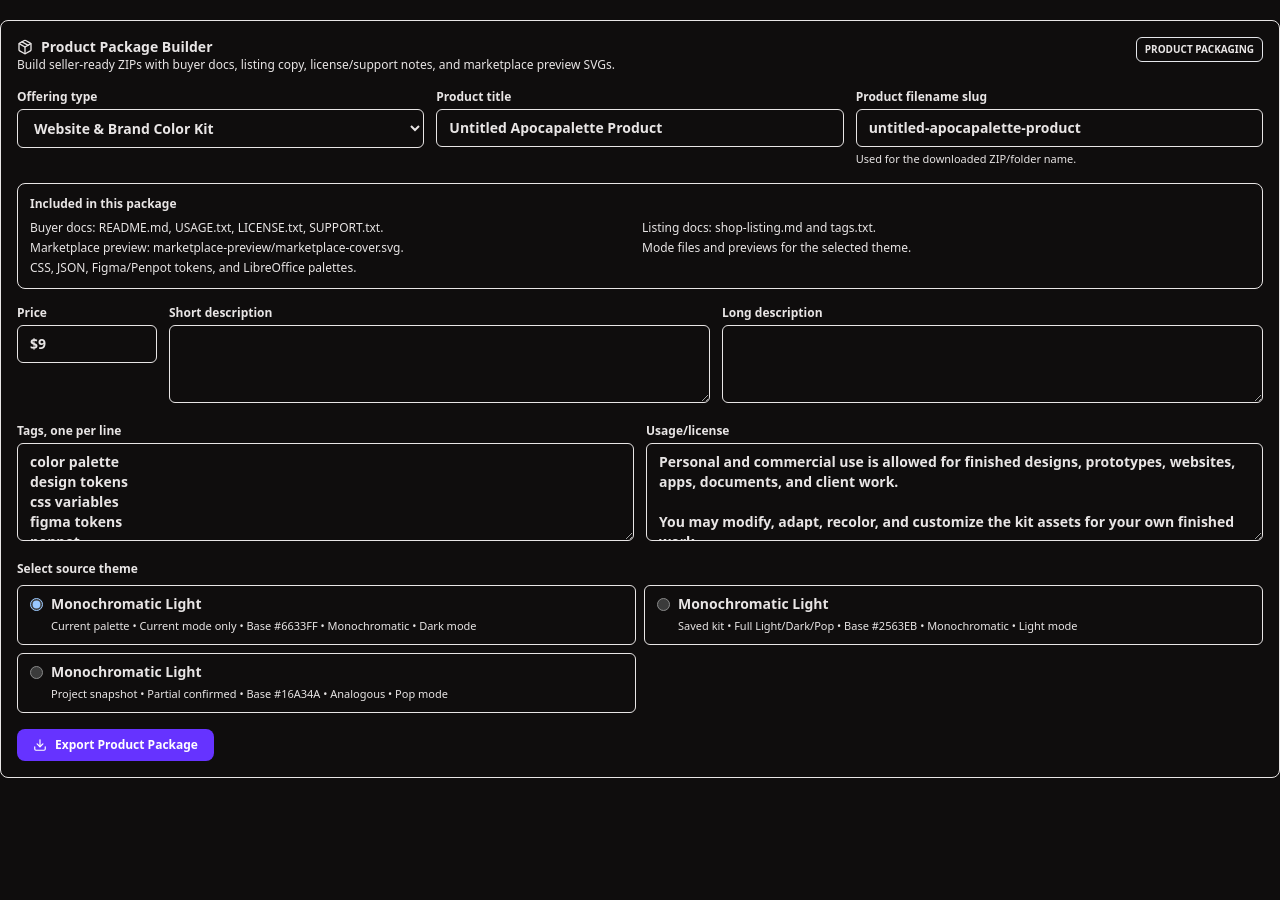
Test: ProductExportBuilder › summarizes bundle package contents
Step 1. Select "Multi-Kit Bundle" in the dropdown labelled "Offering type" → (221, 128), box left=17, top=109, right=424, bottom=148
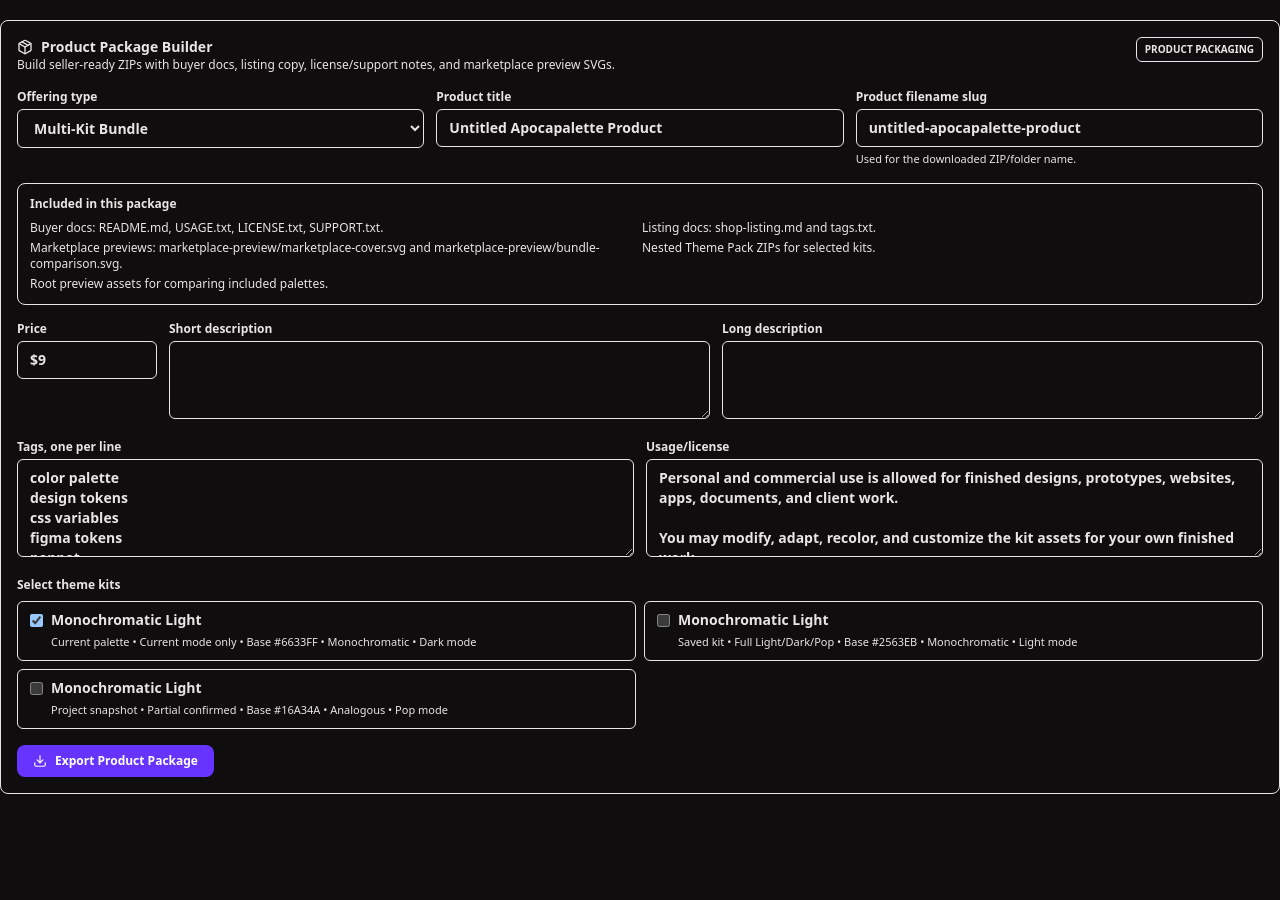
Result: the list item "Nested Theme Pack ZIPs for selected kits." is shown at left=642, top=239, right=876, bottom=256
Result: the list item "bundle-comparison.svg" is shown at left=30, top=239, right=600, bottom=272
Result: the list item "Root preview assets for comparing included palettes." is shown at left=30, top=275, right=328, bottom=292
